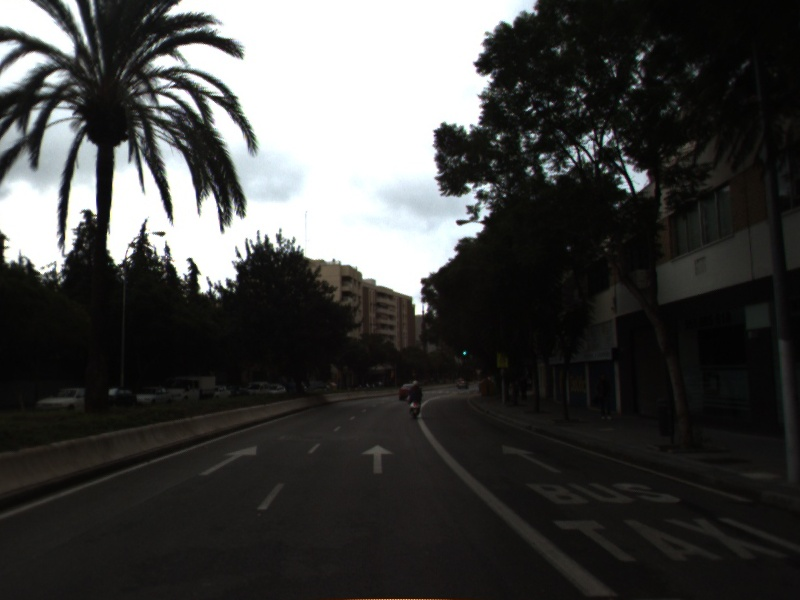STRAIGHT: (500, 442, 563, 475), (196, 444, 259, 477), (359, 442, 396, 476)
